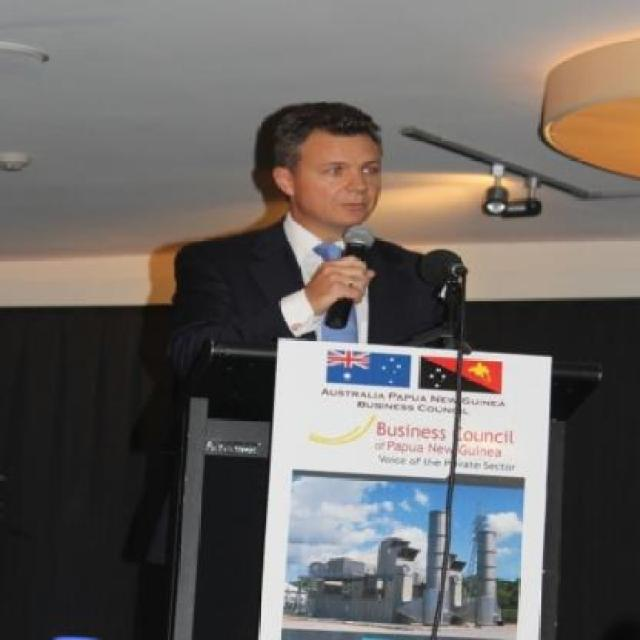Person: (196, 76, 538, 629)
